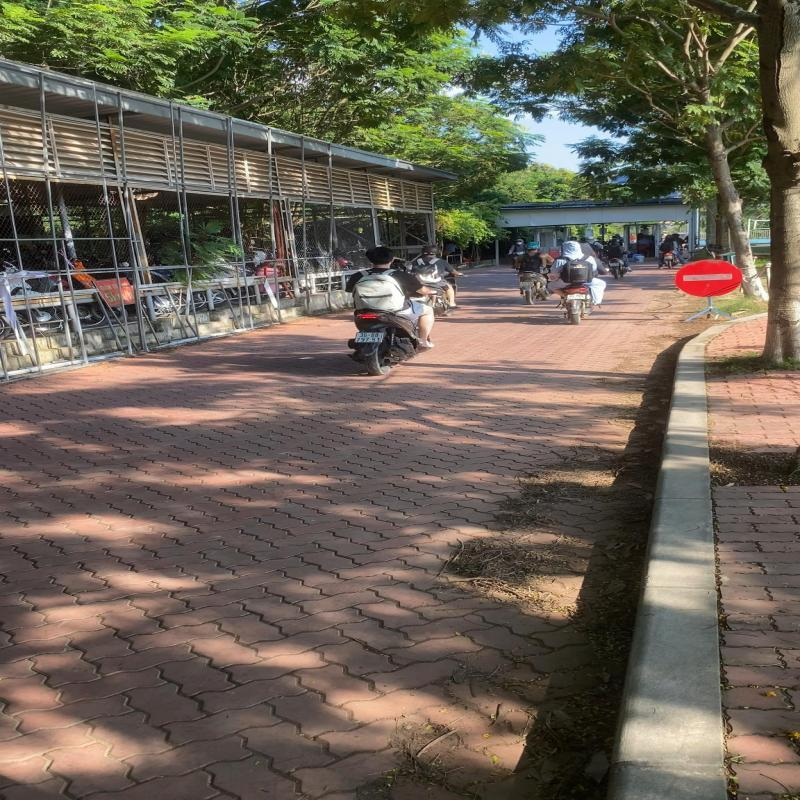licenseplate: (354, 331, 386, 344)
nohelmet: (363, 244, 397, 266)
